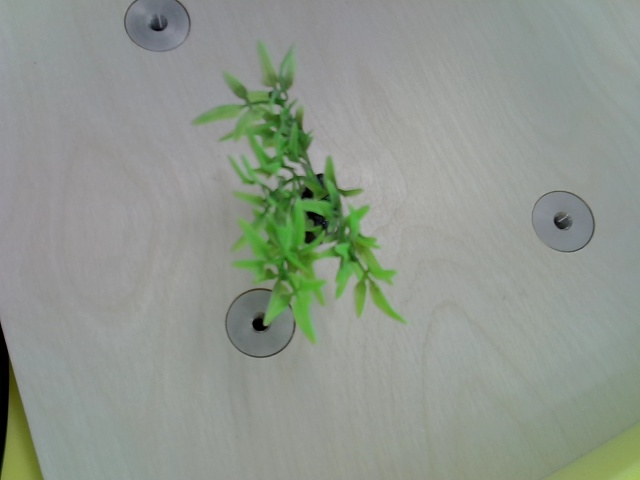튤립새싹: (189, 41, 407, 343)
